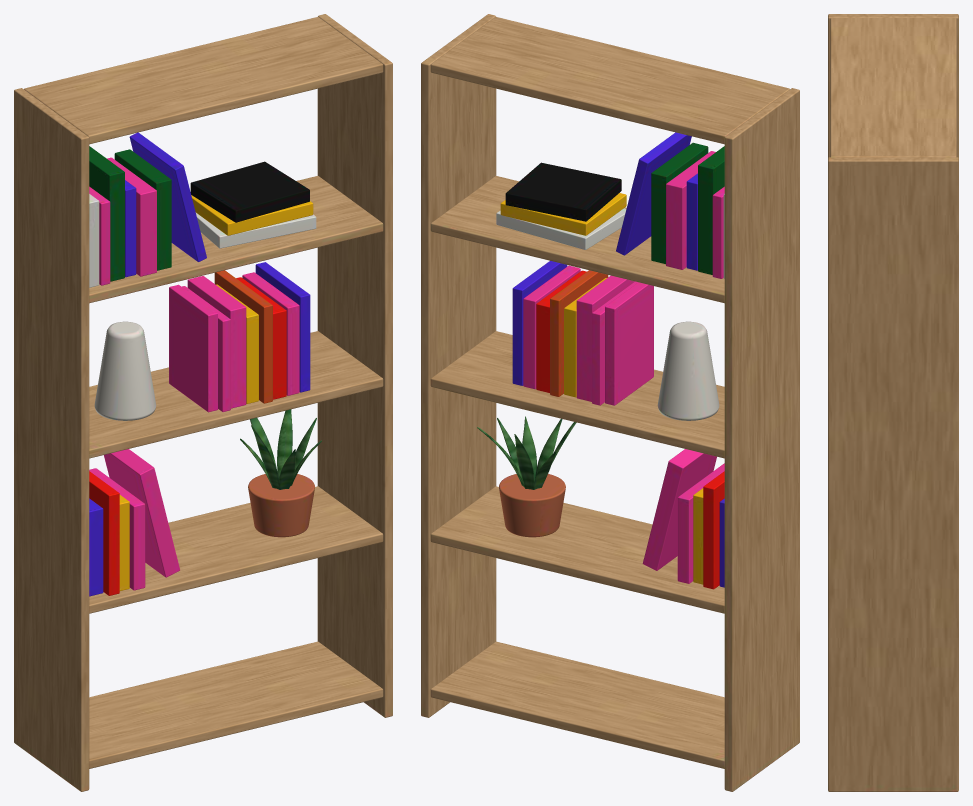
Rendered from shelf.glb.
3 renders of one model, left to right at view 1: azimuth 30°, elevation 25°; view 2: azimuth 150°, elevation 25°; view 3: azimuth 270°, elevation 25°, orthographic. The views are drawn at different scales.
Visible parts, largest first — view 1: Cube; view 2: Cube; view 3: Cube.
Boxes of the visible parts, box(x1,y1,x2,y2) form: Cube: box(14, 14, 392, 791); Cube: box(421, 14, 799, 791); Cube: box(828, 14, 958, 791).
Bounding box in the file's own units: 0.8 × 1.6 × 0.3.
Materials: 1 (1 with a texture image).
